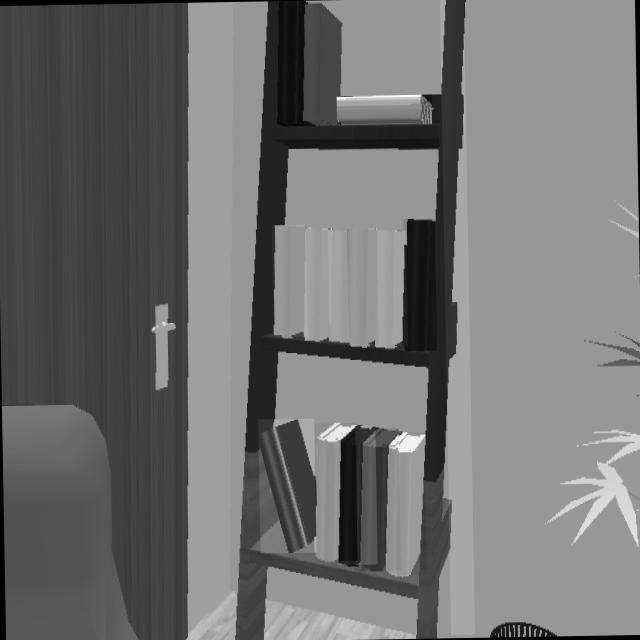book: (258, 419, 315, 552), (316, 423, 355, 561), (387, 432, 424, 574), (337, 426, 374, 565), (362, 429, 398, 569), (404, 219, 434, 350), (274, 225, 306, 336), (375, 230, 405, 346), (349, 229, 377, 343), (305, 228, 330, 341), (336, 94, 432, 123), (331, 230, 351, 342)
shelf: (254, 0, 464, 635), (235, 1, 442, 640)
